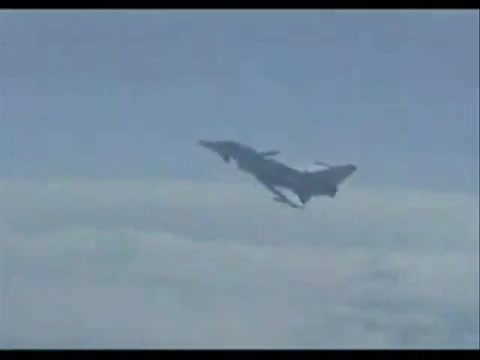aeroplane: (199, 138, 359, 212)
